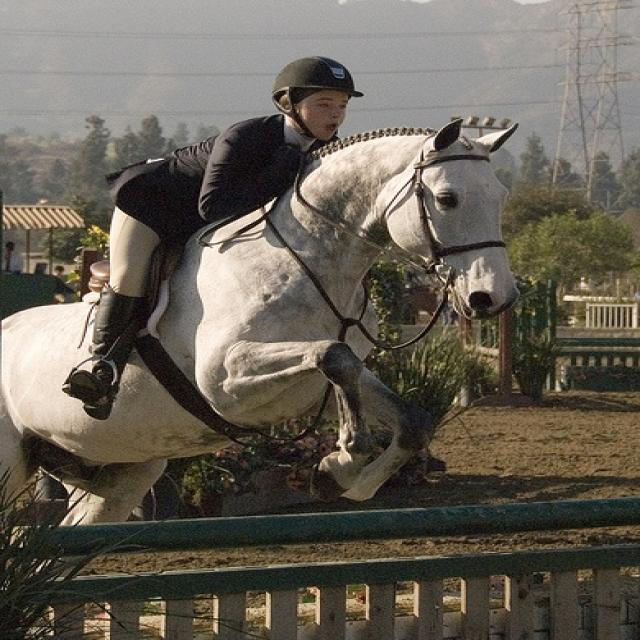horse: (3, 112, 525, 524)
